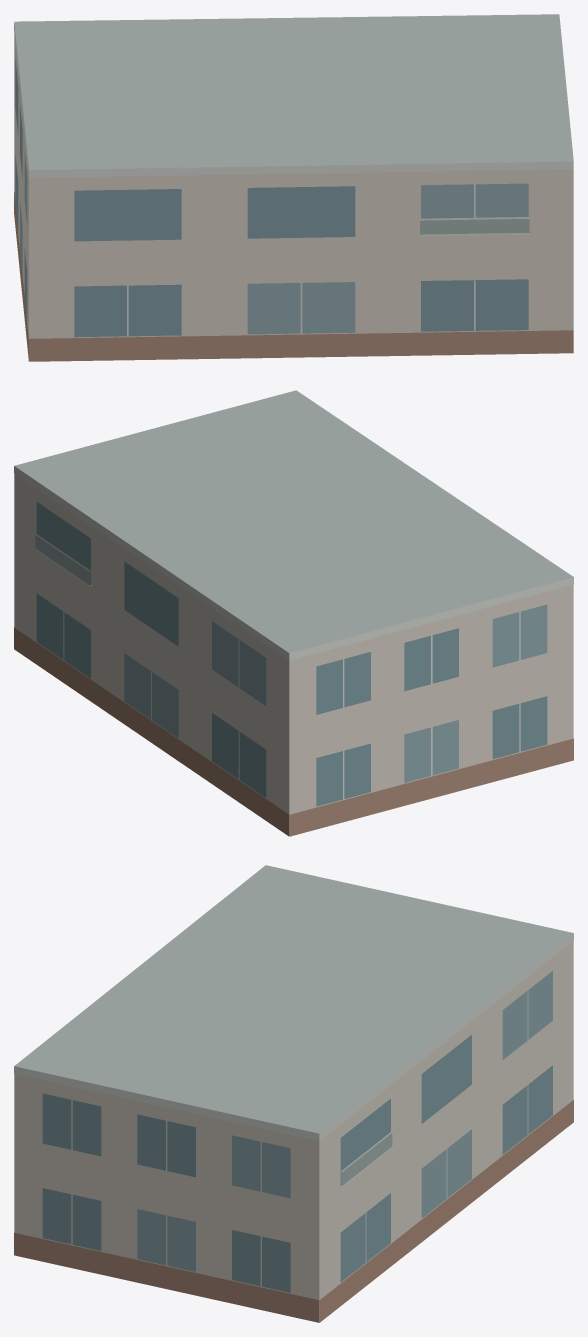
The model's file is survey-upis-32976573.glb.
The picture shows the model from 3 angles, top to bottom: view 1: azimuth 30°, elevation 25°; view 2: azimuth 150°, elevation 25°; view 3: azimuth 270°, elevation 25°; orthographic projection. The views are drawn at different scales.
Visible parts, largest first — view 1: survey-upis-32976573.tmp; view 2: survey-upis-32976573.tmp; view 3: survey-upis-32976573.tmp.
Boxes of the visible parts, x1,y1,x2,y2 form: survey-upis-32976573.tmp: (14, 14, 573, 361); survey-upis-32976573.tmp: (14, 390, 573, 836); survey-upis-32976573.tmp: (14, 865, 573, 1322).
Size of the model in its own units: 18.59 by 6.1 by 16.37.
